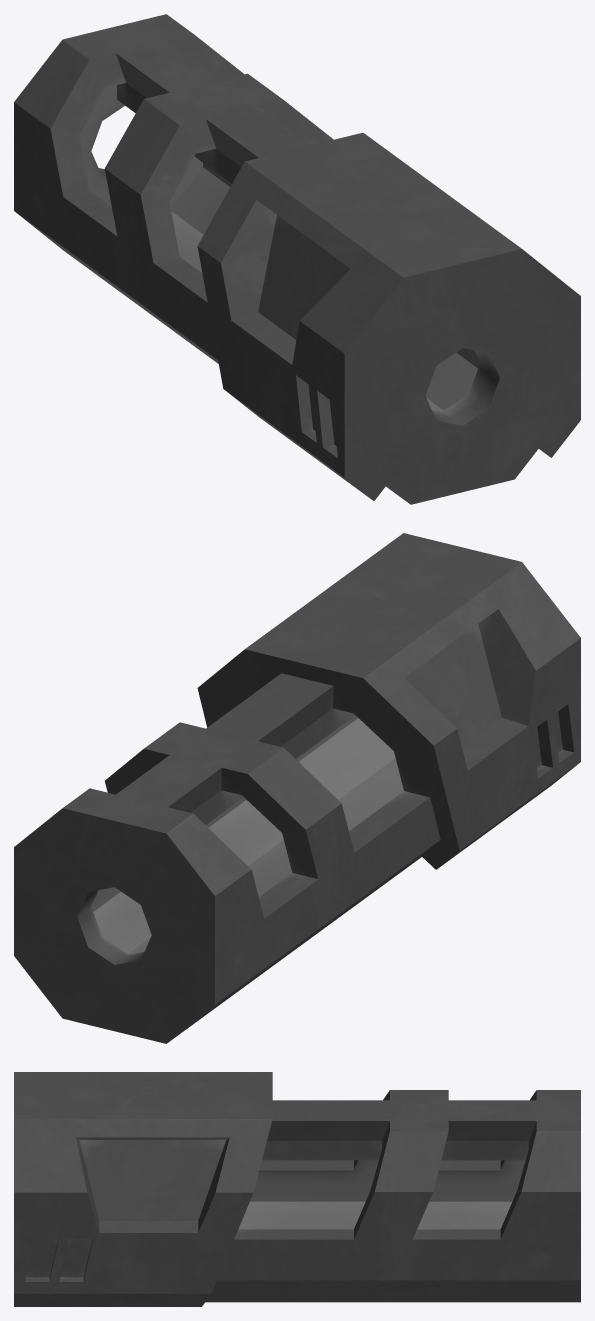
File: IG_Acc_Muzzle_PST_DIS_1.fbx
3 views of the same model, one above another, from view 1: azimuth 30°, elevation 25°; view 2: azimuth 150°, elevation 25°; view 3: azimuth 270°, elevation 25° (orthographic). The views are drawn at different scales.
Visible parts, largest first — view 1: Muzzle_PST_DIS_1; view 2: Muzzle_PST_DIS_1; view 3: Muzzle_PST_DIS_1.
Boxes of the visible parts, x1,y1,x2,y2 form: Muzzle_PST_DIS_1: [14, 14, 580, 504]; Muzzle_PST_DIS_1: [14, 533, 580, 1043]; Muzzle_PST_DIS_1: [14, 1072, 580, 1306].
Size of the model in its own units: 0.0625 by 0.0579 by 0.1596.
